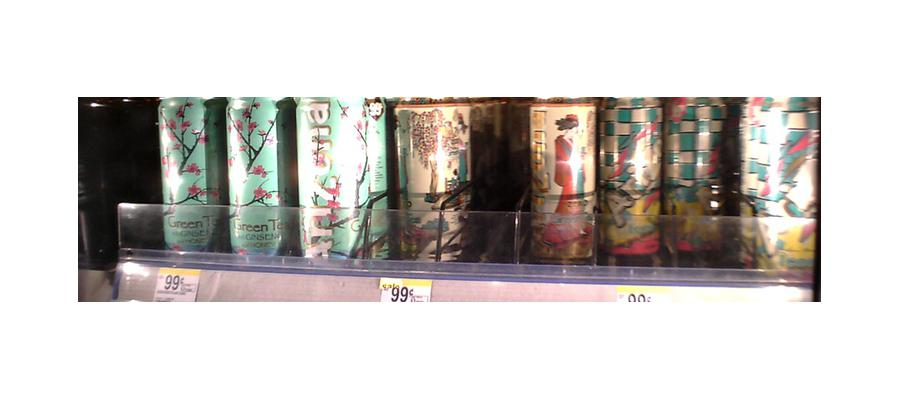bottle: (740, 88, 817, 278), (293, 98, 380, 261), (395, 103, 469, 261), (529, 99, 595, 267), (224, 94, 288, 260), (158, 94, 221, 253), (601, 97, 661, 262), (666, 97, 725, 260)
